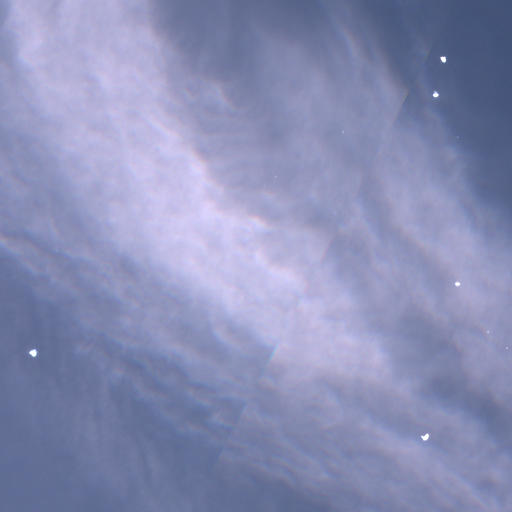Iceberg: (29, 349, 36, 356), (421, 433, 428, 440), (440, 56, 445, 62), (433, 91, 438, 96), (455, 282, 459, 285), (342, 131, 343, 132), (275, 176, 276, 177), (487, 331, 488, 332), (506, 347, 507, 348)
